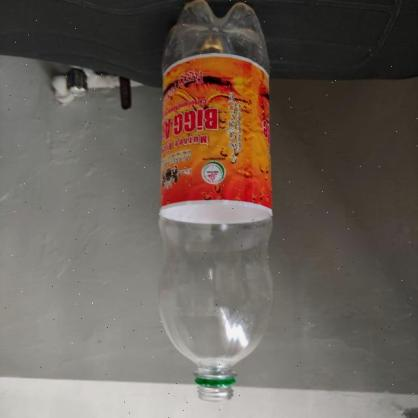bottle: (148, 0, 278, 401)
label: (152, 51, 271, 219)
